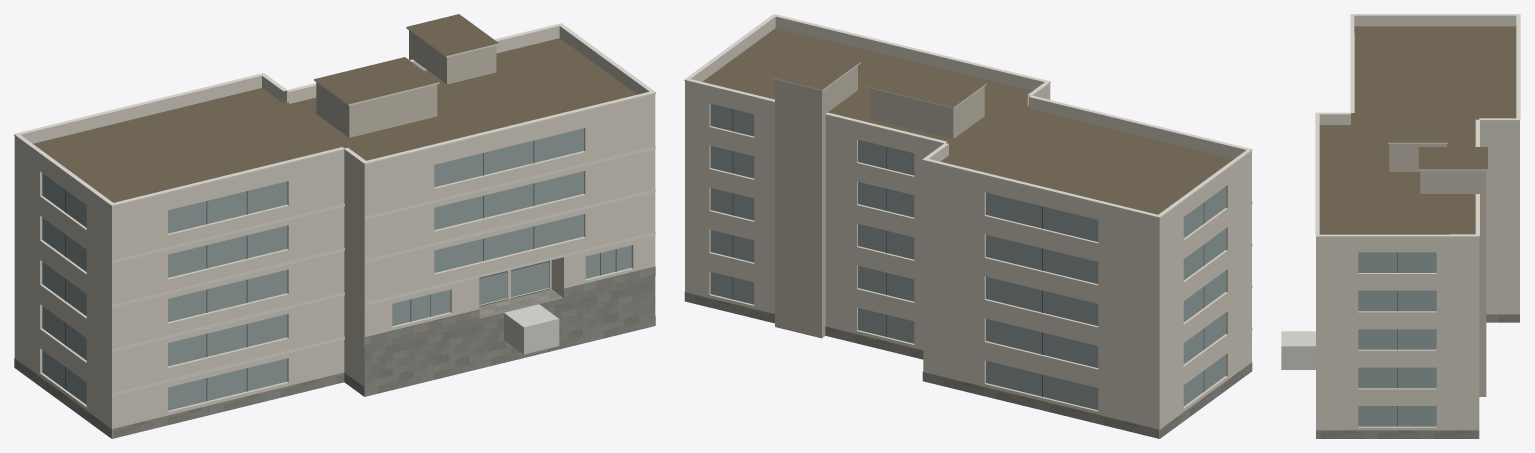
3 renders of one model, left to right at view 1: azimuth 30°, elevation 25°; view 2: azimuth 150°, elevation 25°; view 3: azimuth 270°, elevation 25°, orthographic. The views are drawn at different scales.
Parts seen in each view (by area): view 1: b935__wall, b935__roof, b935__glass, b935__base, b935__parapet, b935__trim, b935__wall2, b935__entranceStair, b935__frame; view 2: b935__wall, b935__roof, b935__glass, b935__wall2, b935__parapet, b935__base, b935__trim, b935__frame; view 3: b935__roof, b935__wall, b935__glass, b935__parapet, b935__wall2, b935__trim, b935__base, b935__entranceStair.
Part boxes in pixels (box(x1,y1,x2,y2)): b935__wall: box(14, 104, 655, 438); b935__roof: box(33, 14, 654, 396); b935__glass: box(42, 128, 631, 410); b935__base: box(14, 266, 655, 438); b935__parapet: box(14, 26, 655, 217); b935__trim: box(14, 23, 655, 395); b935__wall2: box(316, 30, 496, 137); b935__entranceStair: box(504, 304, 559, 354); b935__frame: box(65, 140, 616, 401); b935__wall: box(685, 91, 1251, 438); b935__roof: box(702, 28, 1234, 438); b935__glass: box(710, 104, 1225, 410); b935__wall2: box(775, 65, 984, 338); b935__parapet: box(685, 16, 1251, 228); b935__base: box(684, 292, 1252, 438); b935__trim: box(684, 14, 1252, 329); b935__frame: box(732, 109, 1204, 396); b935__roof: box(1319, 26, 1516, 234); b935__wall: box(1316, 130, 1519, 430); b935__glass: box(1358, 252, 1436, 426); b935__parapet: box(1316, 15, 1519, 246); b935__wall2: box(1389, 144, 1486, 396); b935__trim: box(1315, 14, 1520, 237); b935__base: box(1316, 314, 1519, 438); b935__entranceStair: box(1281, 331, 1315, 369).
Size of the model in its own units: 44.65 by 21.41 by 20.31.
10 materials, 1 textured.
